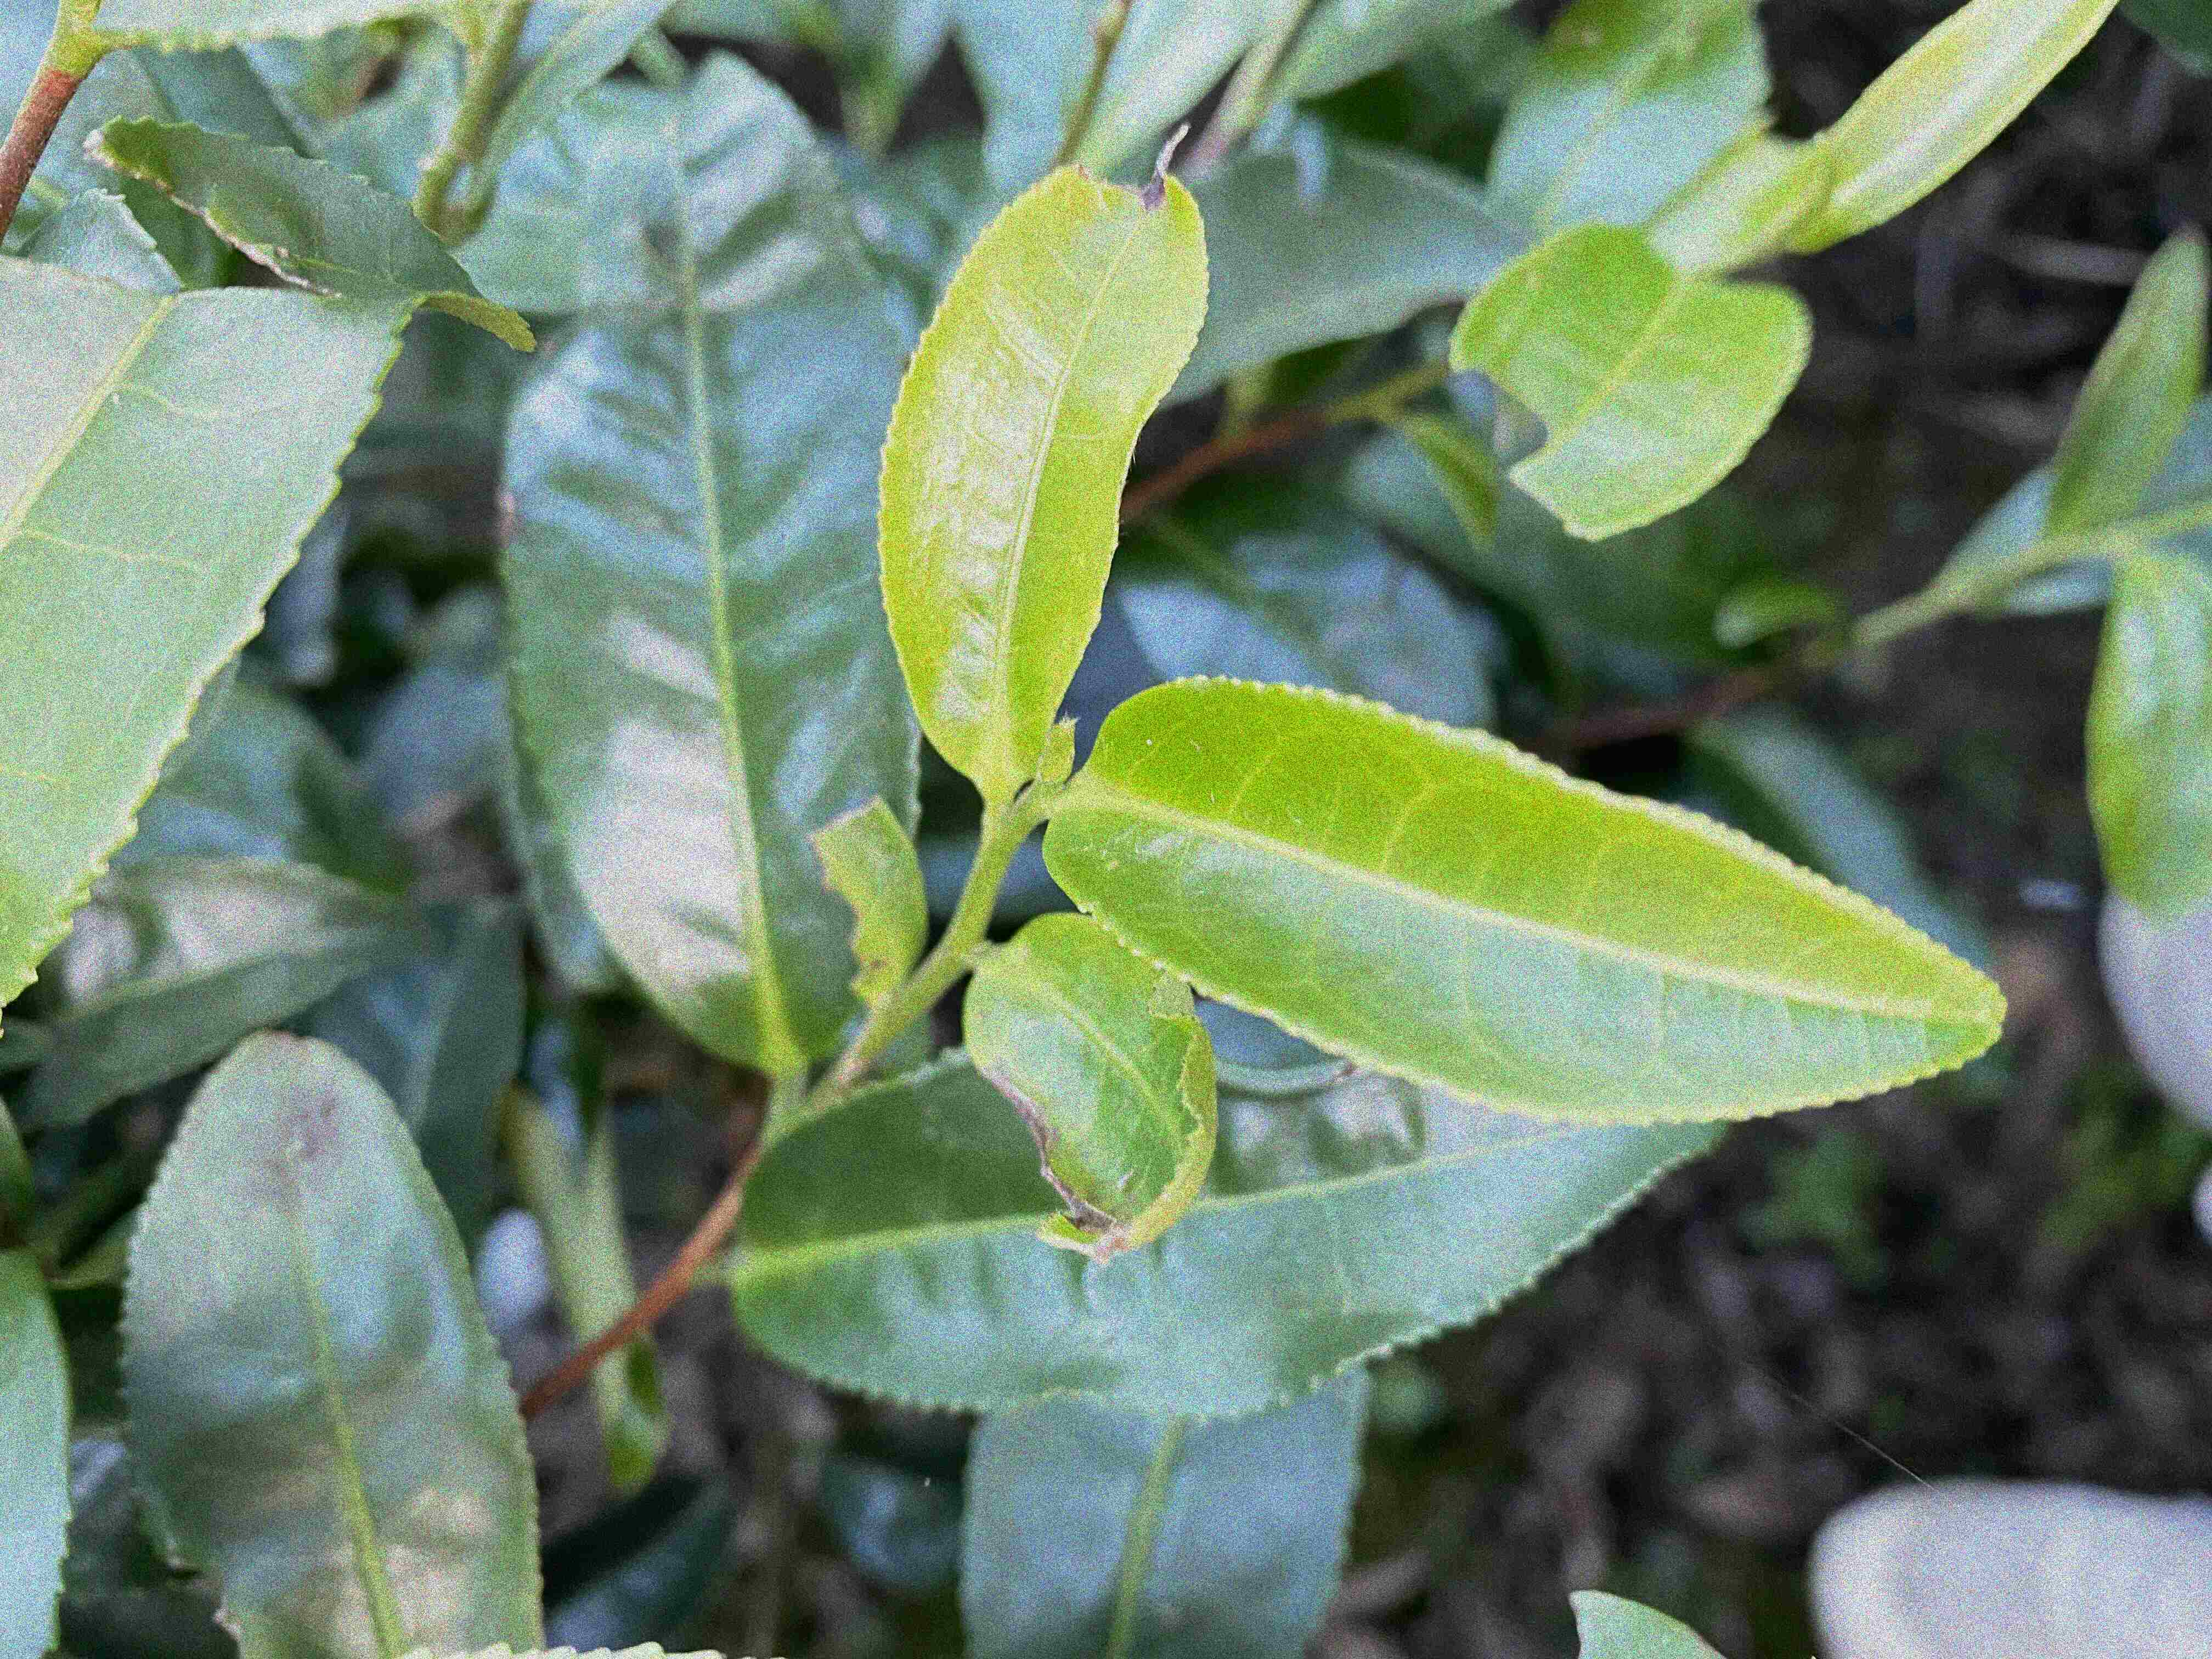chihuo_high: (2, 113, 540, 1014), (1446, 220, 1817, 544), (808, 798, 932, 1009)
healthy: (1042, 673, 2008, 1124)
tanju_high: (871, 124, 1212, 795), (960, 910, 1219, 1260)
